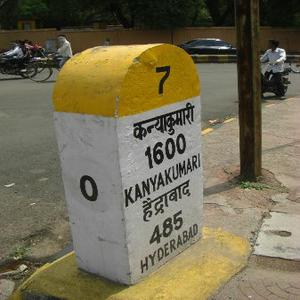kmstone: (48, 41, 200, 276)
